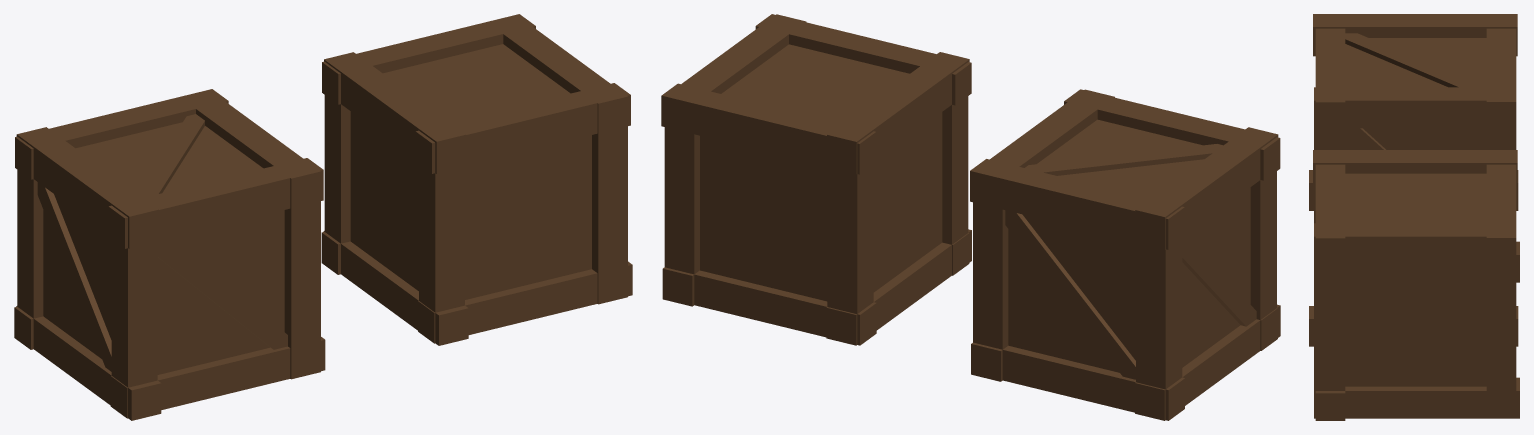
The model's file is Wood Boxes_low.fbx.
3 renders of one model, left to right at view 1: azimuth 30°, elevation 25°; view 2: azimuth 150°, elevation 25°; view 3: azimuth 270°, elevation 25°, orthographic. The views are drawn at different scales.
Parts seen in each view (by area): view 1: Box1, Box; view 2: Box1, Box; view 3: Box1, Box.
Boxes of the visible parts, <box> form: Box1: <box>321,14,632,345</box>; Box: <box>14,89,325,420</box>; Box1: <box>661,14,971,345</box>; Box: <box>970,89,1280,420</box>; Box1: <box>1309,150,1519,420</box>; Box: <box>1309,14,1519,282</box>.
Size of the model in its own units: 365 by 139 by 145.
